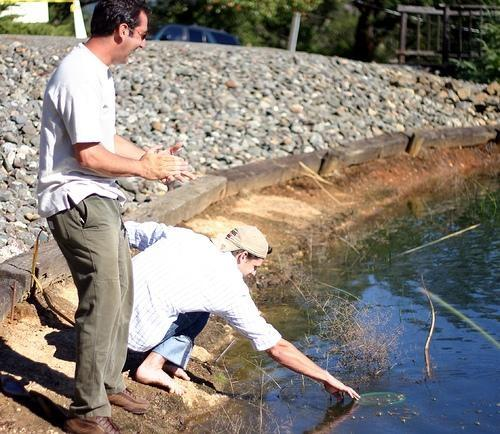car: (146, 24, 244, 46)
